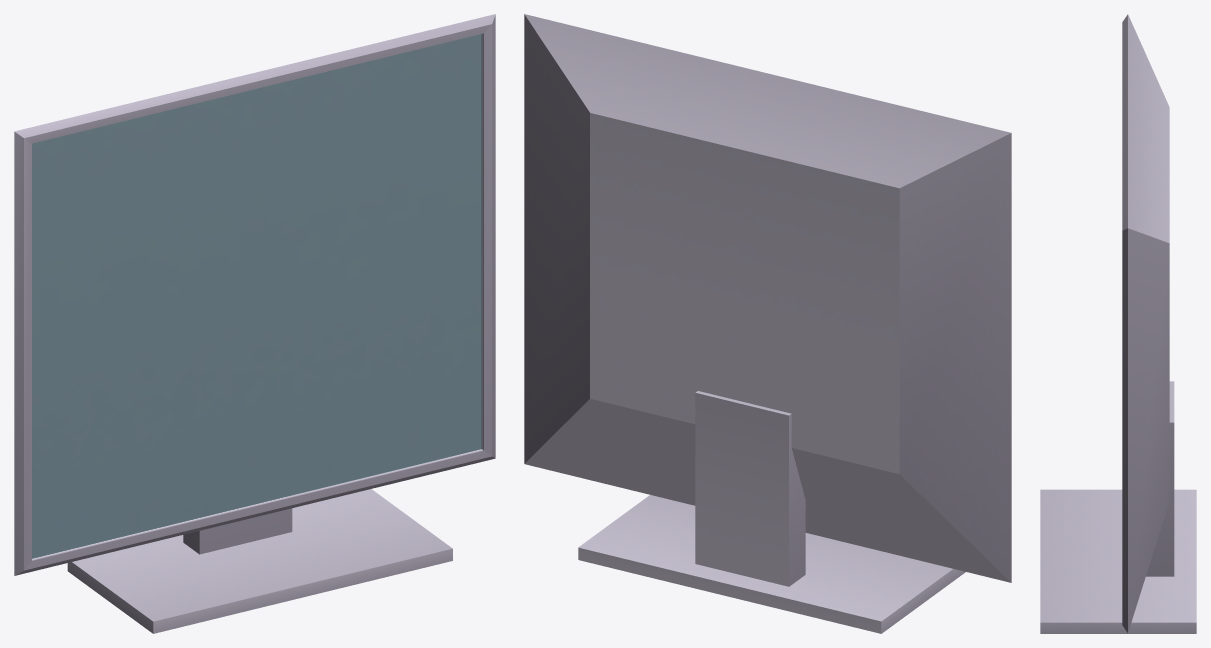
The model's file is Monitor.fbx.
3 views of the same model, side by side, from view 1: azimuth 30°, elevation 25°; view 2: azimuth 150°, elevation 25°; view 3: azimuth 270°, elevation 25° (orthographic). The views are drawn at different scales.
Parts seen in each view (by area): view 1: Old_Monitor:pCube1Computer, Old_Monitor:ComputerpCube3, Old_Monitor:ComputerpCube2; view 2: Old_Monitor:pCube1Computer, Old_Monitor:ComputerpCube3, Old_Monitor:ComputerpCube2; view 3: Old_Monitor:pCube1Computer, Old_Monitor:ComputerpCube3, Old_Monitor:ComputerpCube2.
Part boxes in pixels (x1=…): Old_Monitor:pCube1Computer: x1=14, y1=14, x2=495, y2=575; Old_Monitor:ComputerpCube3: x1=67, y1=489, x2=452, y2=633; Old_Monitor:ComputerpCube2: x1=183, y1=508, x2=292, y2=554; Old_Monitor:pCube1Computer: x1=524, y1=14, x2=1011, y2=582; Old_Monitor:ComputerpCube3: x1=578, y1=495, x2=965, y2=633; Old_Monitor:ComputerpCube2: x1=695, y1=391, x2=805, y2=586; Old_Monitor:pCube1Computer: x1=1122, y1=14, x2=1169, y2=632; Old_Monitor:ComputerpCube3: x1=1040, y1=489, x2=1196, y2=633; Old_Monitor:ComputerpCube2: x1=1146, y1=381, x2=1174, y2=576.
Bounding box in the file's own units: 24.34 × 23.65 × 7.52.
